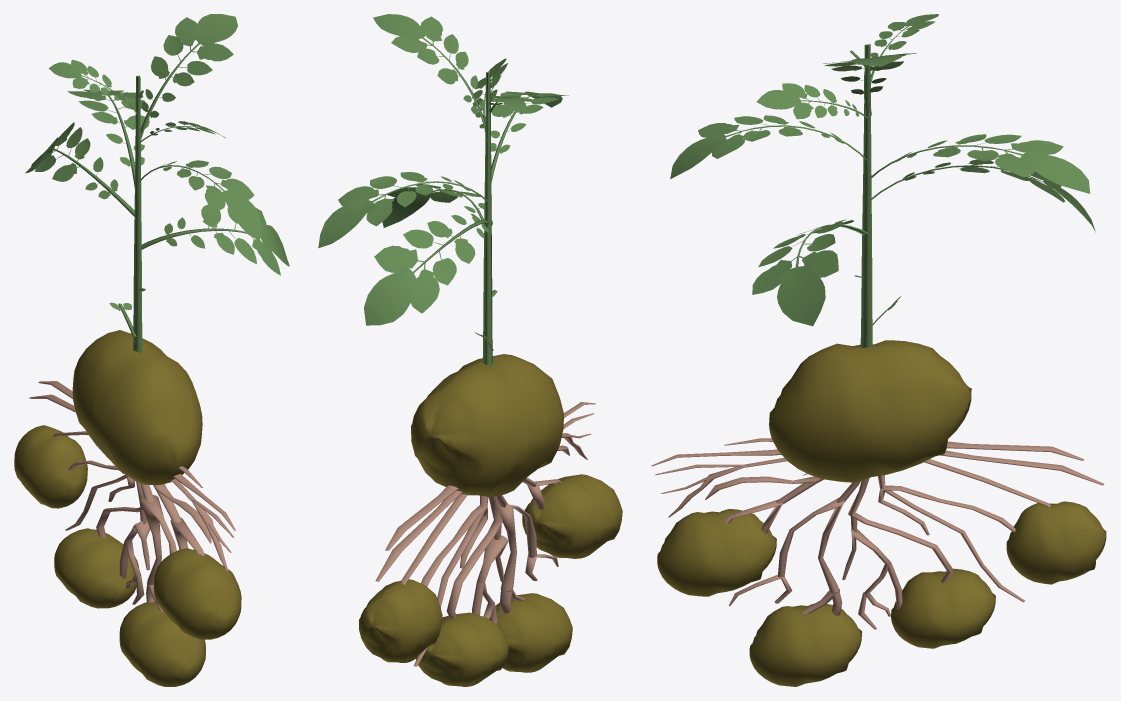
The model's file is BatateGrande.fbx.
The picture shows the model from 3 angles, left to right: view 1: azimuth 30°, elevation 25°; view 2: azimuth 150°, elevation 25°; view 3: azimuth 270°, elevation 25°; orthographic projection. The views are drawn at different scales.
Parts seen in each view (by area): view 1: pasted__Potato_02, pasted__pSphere3, pasted__pasted__roots, pasted__pSphere4, pasted__pSphere5, pasted__pSphere6, pasted__pSphere7; view 2: pasted__Potato_02, pasted__pSphere3, pasted__pasted__roots, pasted__pSphere4, pasted__pSphere7, pasted__pSphere6, pasted__pSphere5; view 3: pasted__pSphere3, pasted__Potato_02, pasted__pasted__roots, pasted__pSphere4, pasted__pSphere5, pasted__pSphere7, pasted__pSphere6.
Part boxes in pixels (<box>): pasted__Potato_02: <box>25,14,289,353</box>; pasted__pSphere3: <box>72,330,202,485</box>; pasted__pasted__roots: <box>29,381,235,611</box>; pasted__pSphere4: <box>153,548,241,639</box>; pasted__pSphere5: <box>119,601,205,686</box>; pasted__pSphere6: <box>54,528,138,608</box>; pasted__pSphere7: <box>14,425,87,508</box>; pasted__Potato_02: <box>318,14,568,367</box>; pasted__pSphere3: <box>411,354,563,496</box>; pasted__pasted__roots: <box>375,402,595,666</box>; pasted__pSphere4: <box>522,474,622,558</box>; pasted__pSphere7: <box>359,579,442,662</box>; pasted__pSphere6: <box>415,612,508,686</box>; pasted__pSphere5: <box>489,593,572,672</box>; pasted__pSphere3: <box>769,340,971,482</box>; pasted__Potato_02: <box>670,14,1095,347</box>; pasted__pasted__roots: <box>651,438,1104,629</box>; pasted__pSphere4: <box>657,509,776,596</box>; pasted__pSphere5: <box>749,603,862,686</box>; pasted__pSphere7: <box>1006,501,1106,584</box>; pasted__pSphere6: <box>891,568,995,648</box>.
Size of the model in its own units: 4.44 by 14.22 by 8.7.
